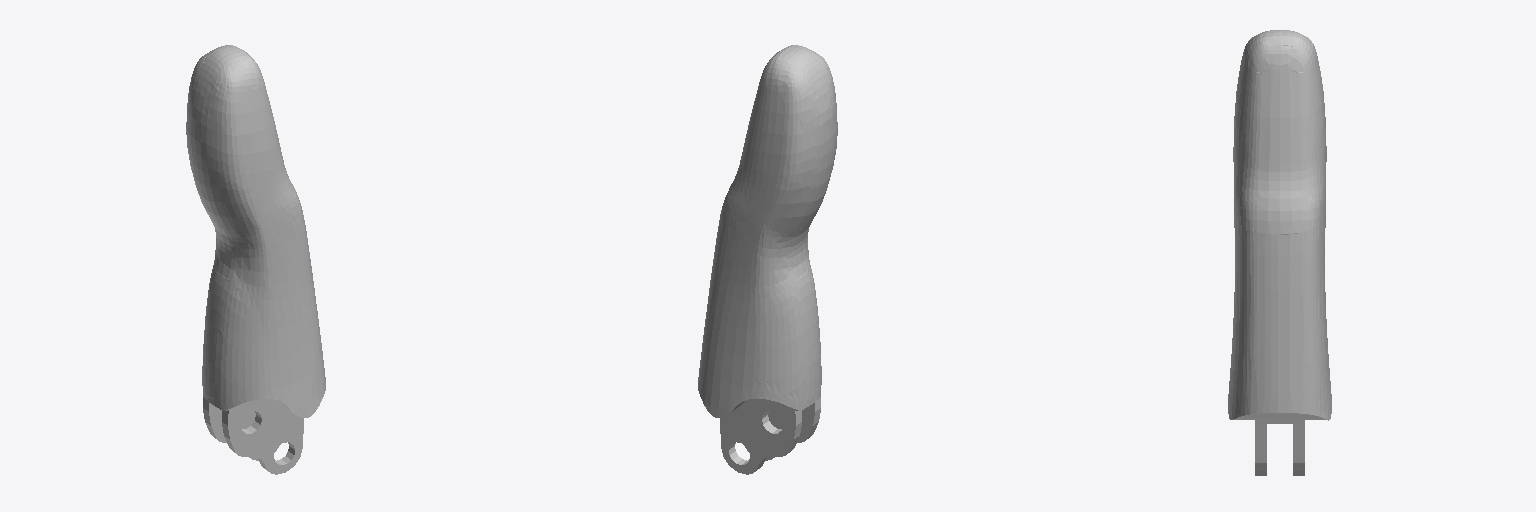
The picture shows the model from 3 angles: view 1: azimuth 30°, elevation 25°; view 2: azimuth 150°, elevation 25°; view 3: azimuth 270°, elevation 25°; orthographic projection.
Visible parts, largest first — view 1: Link18_R; view 2: Link18_R; view 3: Link18_R.
Boxes of the visible parts, <box> form: Link18_R: <box>186,45,325,474</box>; Link18_R: <box>698,45,837,474</box>; Link18_R: <box>1228,30,1331,475</box>.
Bounding box in the file's own units: 0.017 × 0.0565 × 0.0126.